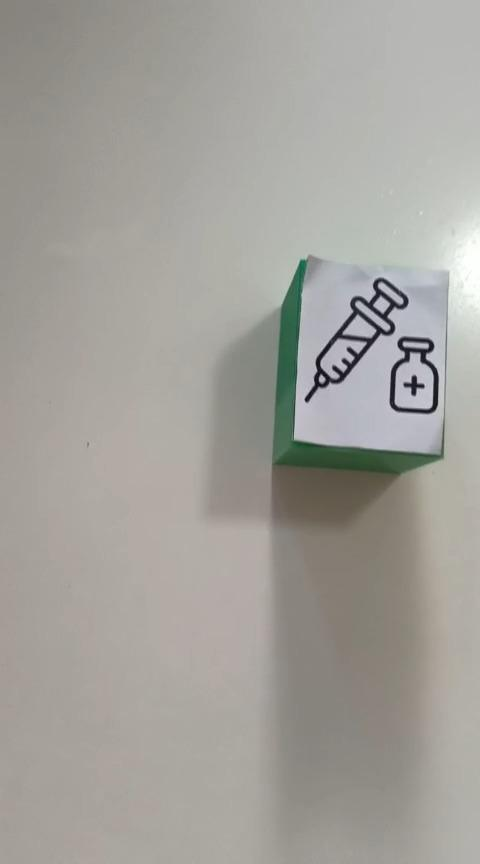antiseptic cream: (271, 253, 449, 474)
